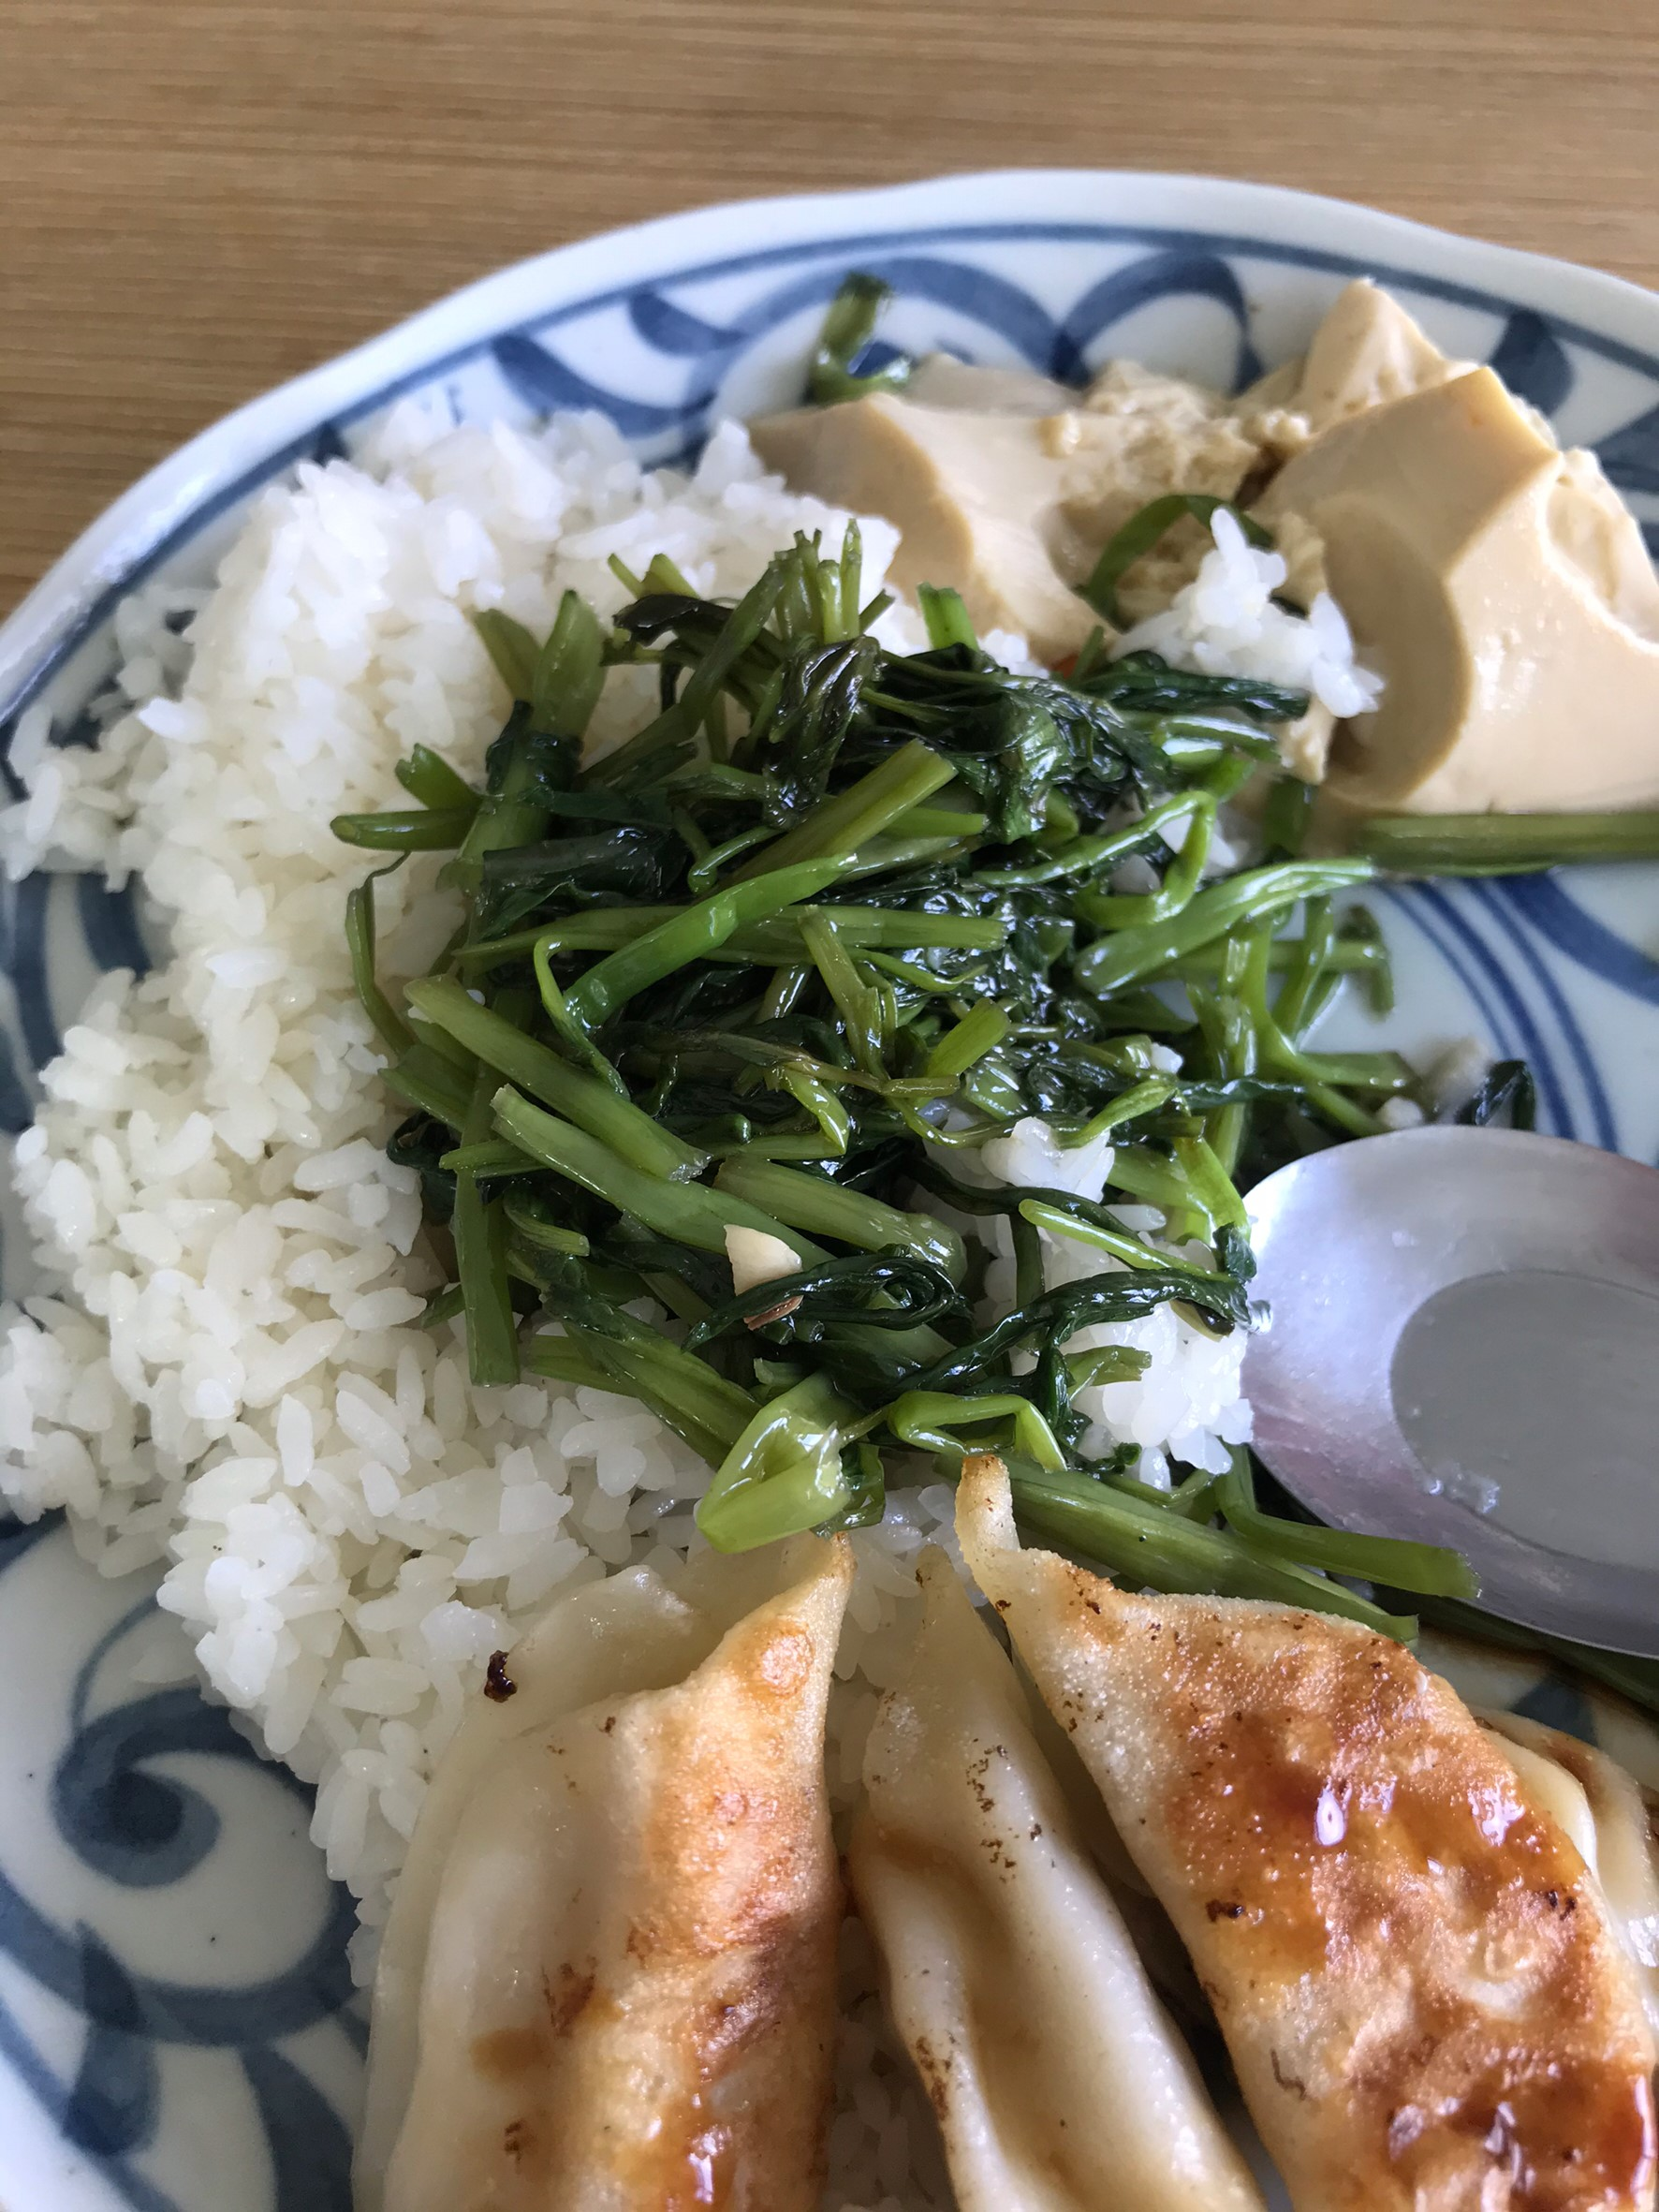fried_dumplings: (355, 1487, 1659, 2207)
rice: (78, 490, 483, 1701)
water_spinach: (464, 624, 1316, 1447)
